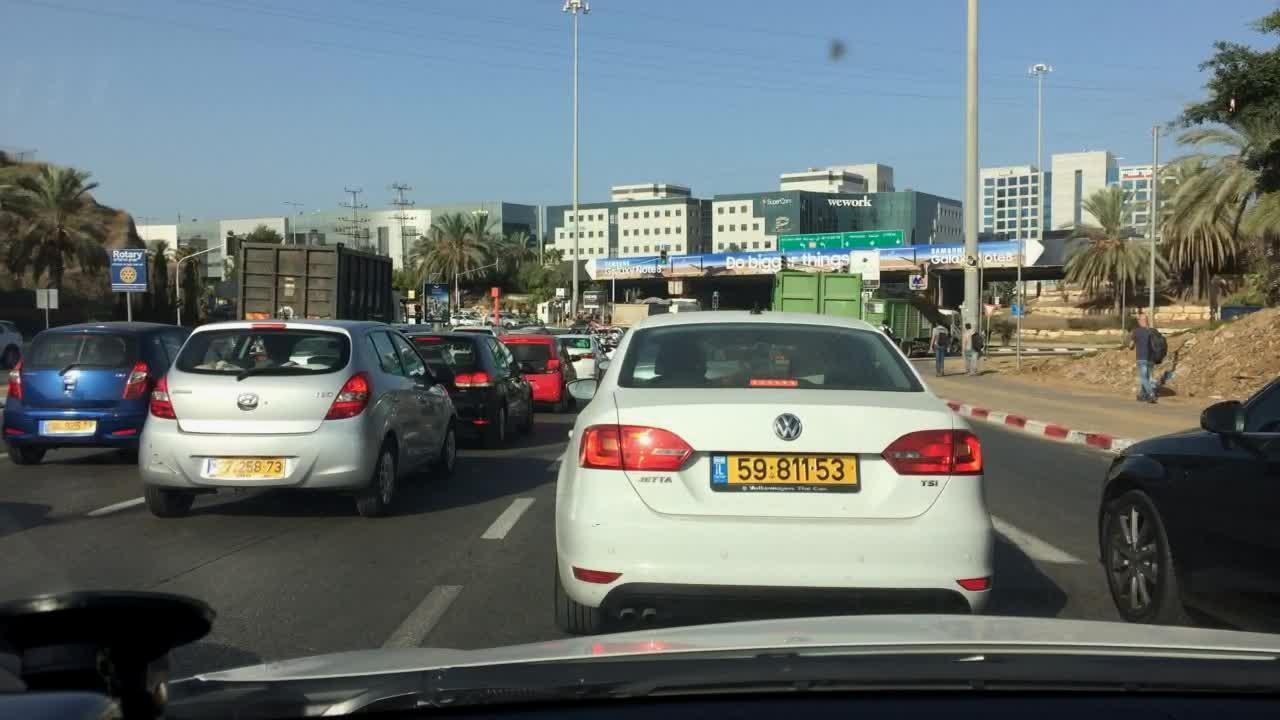Hyundai: (232, 390, 264, 418)
Volkswagen: (770, 407, 818, 450)
